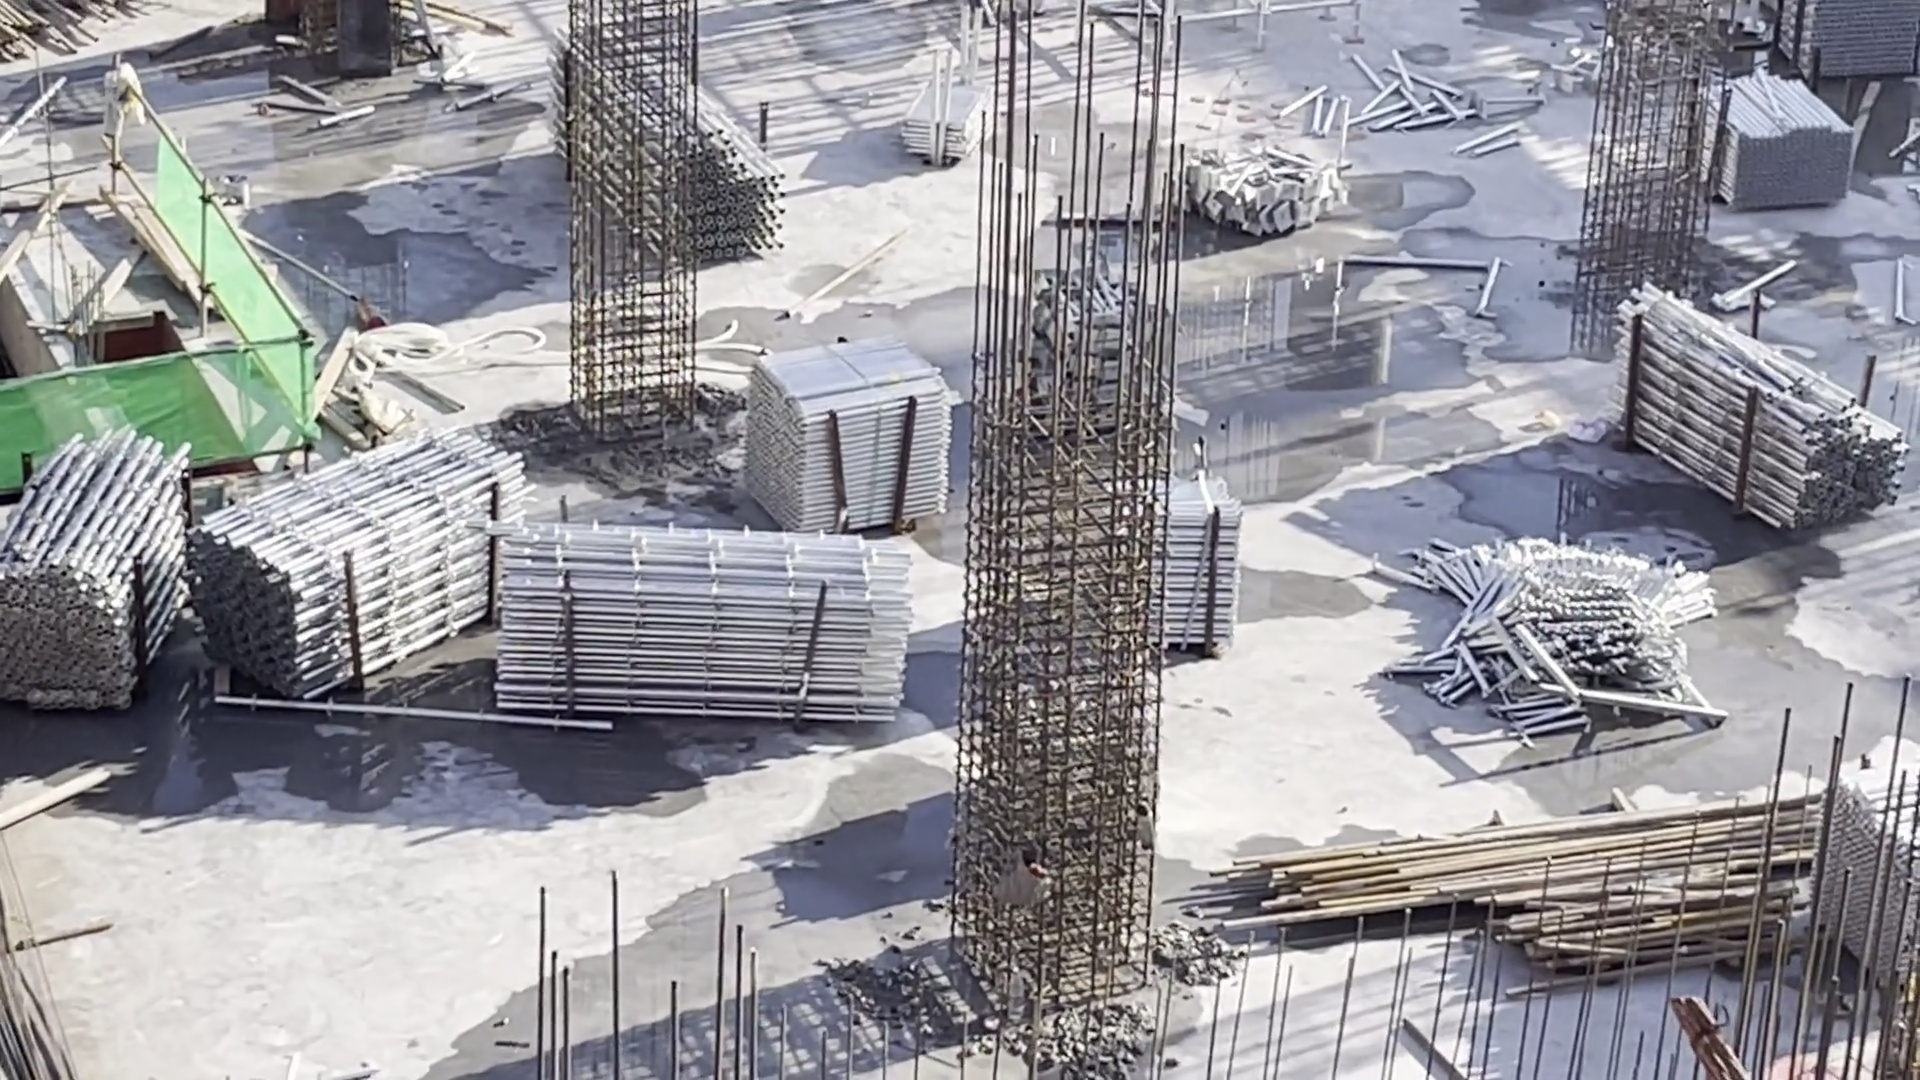scaffold: (483, 535, 909, 713), (219, 467, 496, 692), (1648, 320, 1844, 592), (1453, 541, 1691, 723), (604, 73, 796, 272), (1, 465, 191, 654), (760, 357, 944, 531), (1818, 785, 1920, 981), (1712, 78, 1840, 215), (1793, 1, 1920, 88), (1149, 497, 1208, 649), (897, 83, 978, 156)
